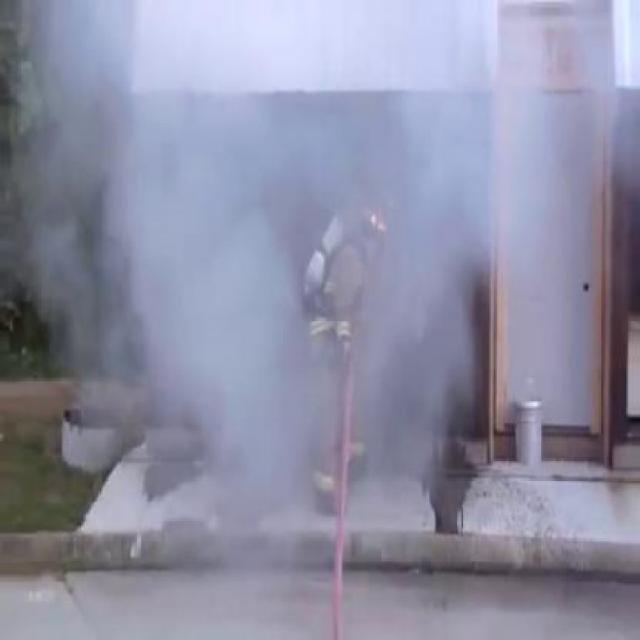smoke: (116, 100, 304, 514), (373, 94, 512, 482), (290, 84, 407, 200)
